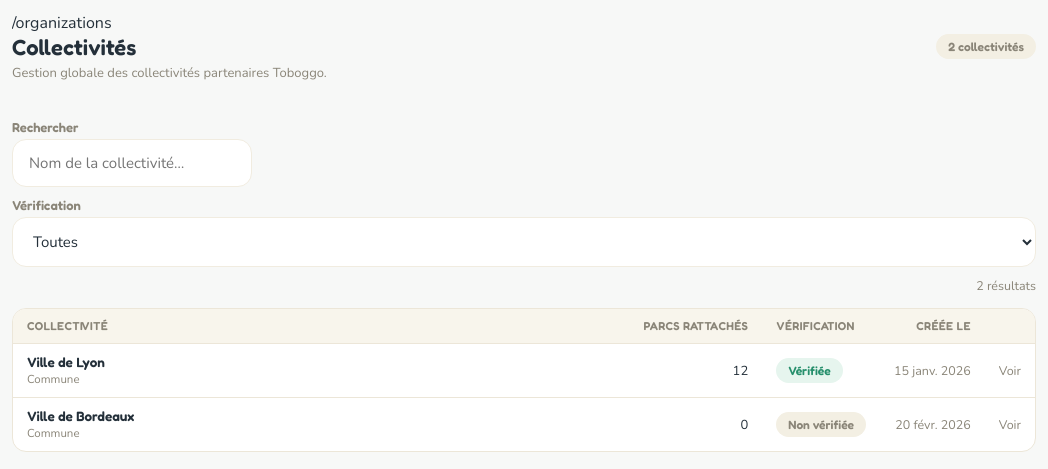
Test: Organizations — liste Admin des collectivités (Admin-UI-3B) › le compteur total et le filtre de recherche restreignent la liste au nom de la collectivité
Expected: the text "Ville de Lyon" is shown, left=27, top=354, right=105, bottom=370
Expected: the text "2 collectivités" is shown, left=936, top=34, right=1036, bottom=59
Type "Lyon" into the search field labelled "Rechercher".
click(132, 163); type("Lyon")  # box left=12, top=139, right=252, bottom=187
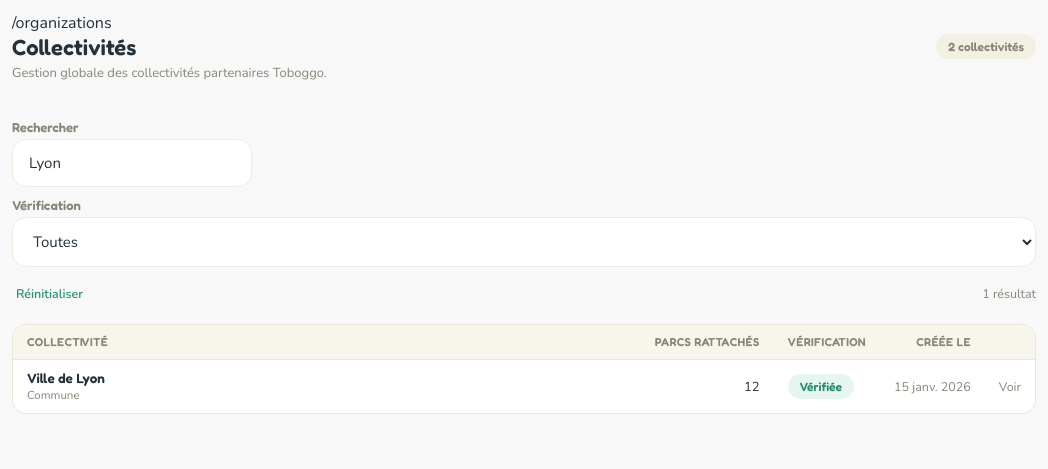
Expected: the text "Ville de Lyon" is shown, left=27, top=370, right=105, bottom=386
Expected: the button "Ville de Bordeaux" is gone
